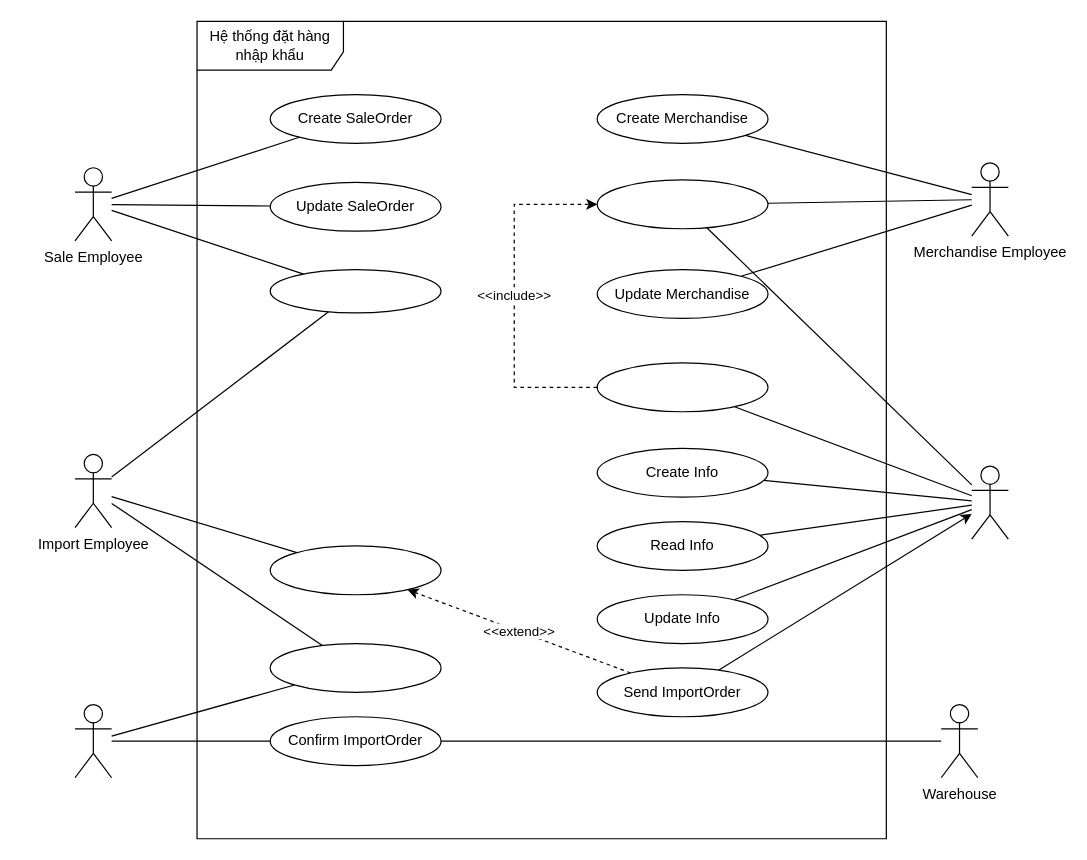
The diagram is 1087 pixels wide and 860 high, and some of its shapes have lost their labels. The box of each missing label's shape, as (x1, y1, x2, y2) in pixels:
Generate ImportOrder: (269, 545, 441, 595)
Provide Merchandise: (596, 362, 768, 412)
Read ImportOrder: (269, 642, 441, 692)
Read Merchandise: (596, 179, 768, 229)
Read SaleOrder: (269, 268, 441, 313)
Site: (971, 465, 1008, 539)
Warehouse Employee: (74, 703, 112, 778)
